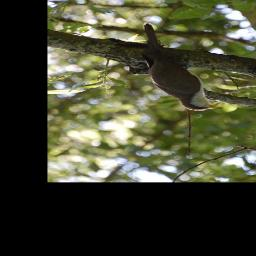Cuckoo: (138, 21, 224, 112)
